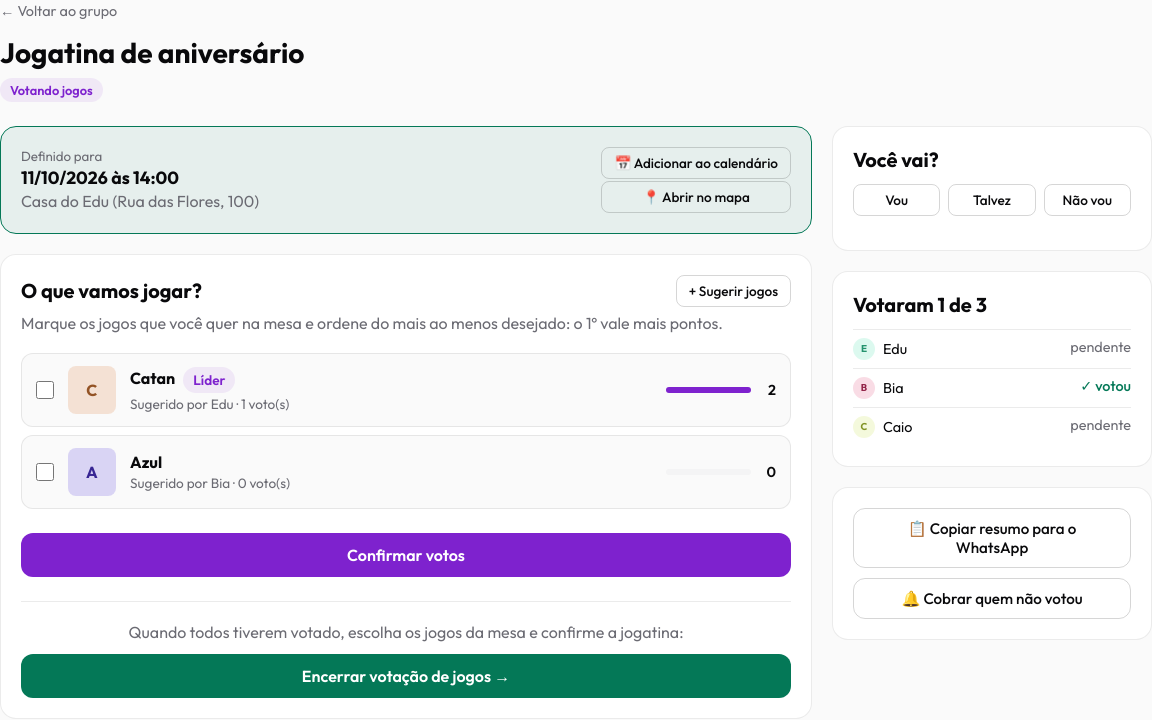
Evento — ranking de jogos › a janela de encerramento mostra pontos e votos, com os votados marcados
This screenshot has width=1152, height=720.
Click the button "Encerrar votação de jogos →": {"x": 406, "y": 676} [21,654,791,698]
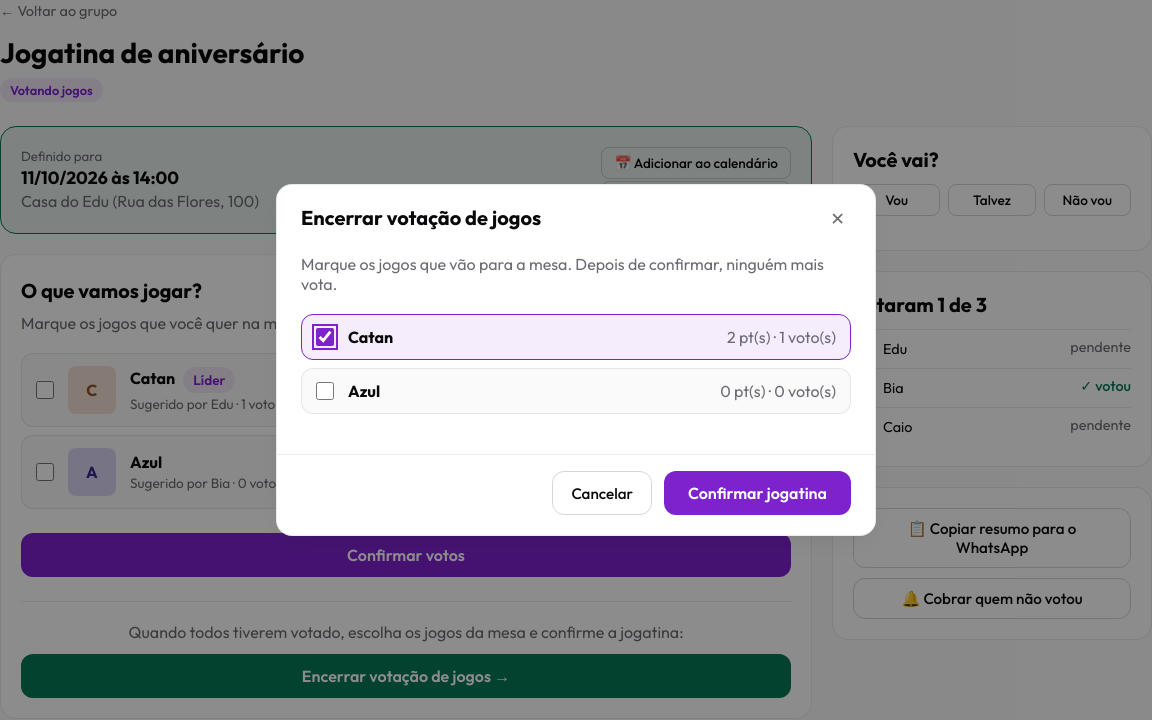
Check: the text "2 pt(s) · 1 voto(s)" is shown, box [727,327,836,347]
Check: the text "0 pt(s) · 0 voto(s)" is shown, box [720,381,836,401]
Check: the checkbox labelled "Catan 2 pt(s) · 1 voto(s)" is checked, box [316,328,334,346]
